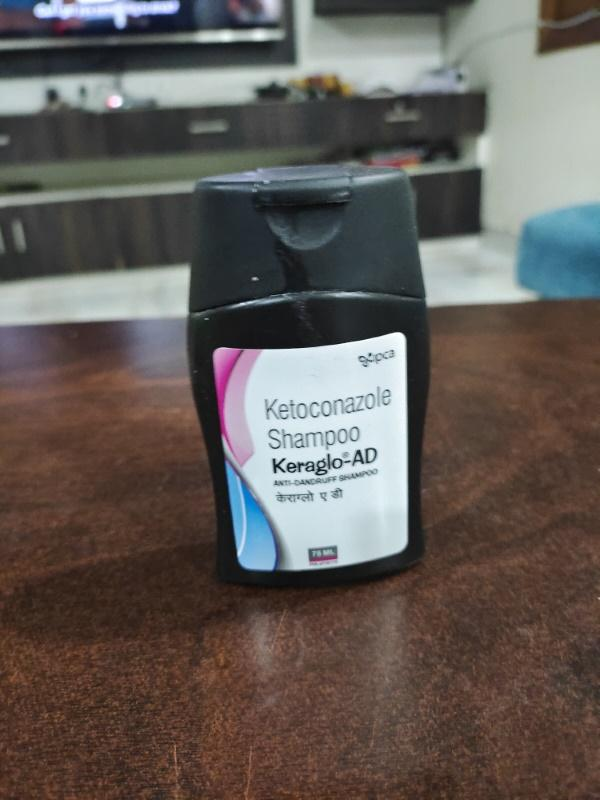KeraGlo: (178, 172, 442, 599)
